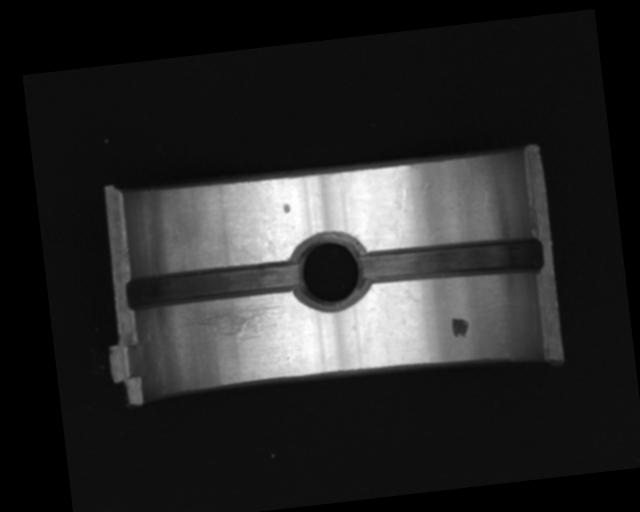blot: (449, 315, 470, 338)
bruise: (281, 201, 291, 214)
gap: (356, 232, 543, 291), (124, 257, 303, 312)
hole: (289, 230, 367, 315)
nick: (390, 188, 413, 250)
scratch: (177, 298, 289, 347)
